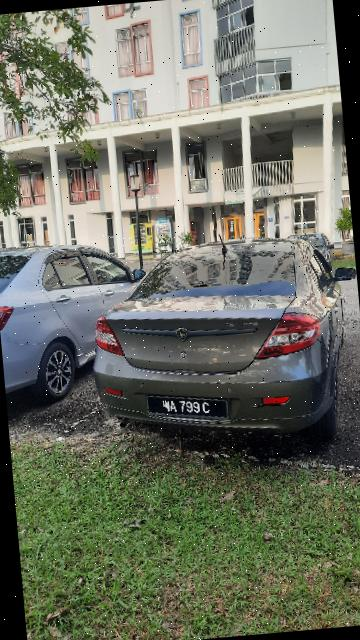License_Plate: (148, 390, 229, 427)
car: (87, 233, 356, 448), (1, 241, 156, 403), (288, 233, 338, 275)
